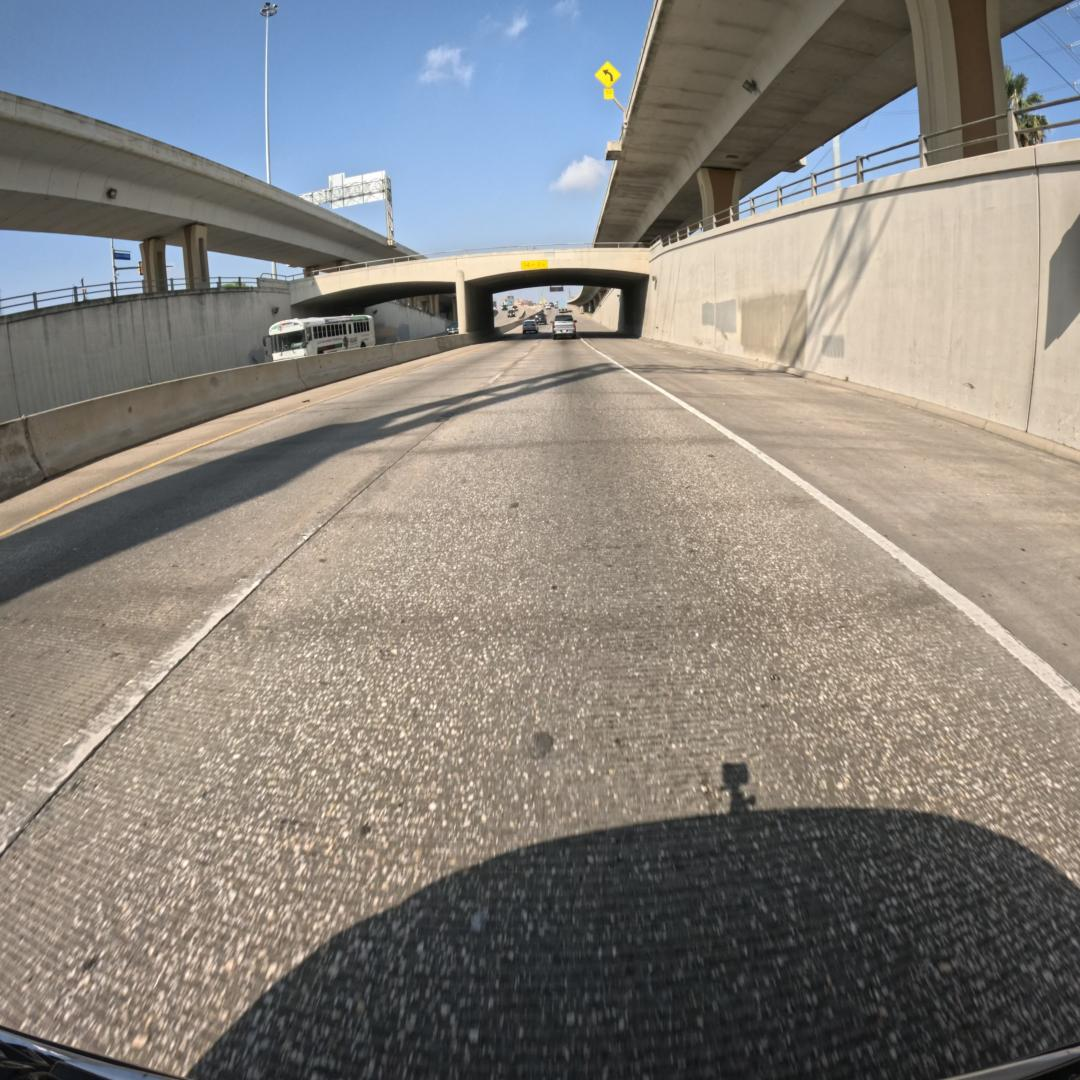lane0: (0, 341, 1080, 1080)
lane1: (0, 340, 534, 854)
